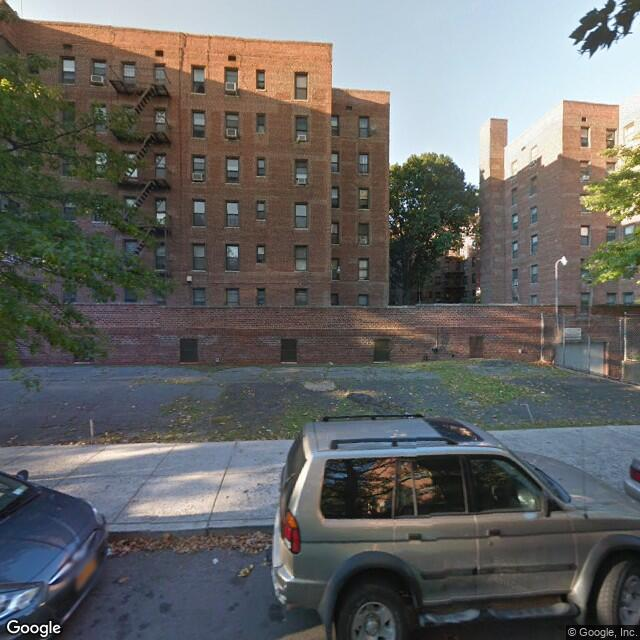litter: (201, 541, 226, 575), (529, 384, 555, 399), (491, 379, 511, 397), (106, 538, 117, 556)
